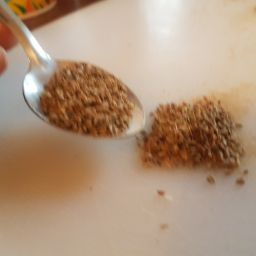Ajwain: (12, 57, 149, 161), (143, 94, 256, 197)
